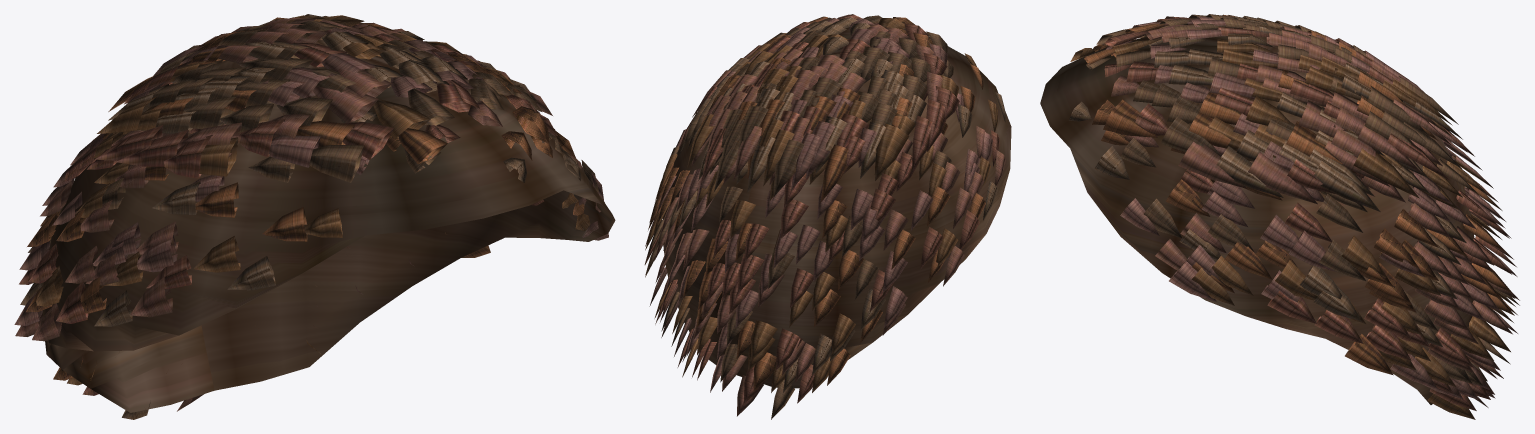
The model's file is militar.glb.
3 renders of one model, left to right at view 1: azimuth 30°, elevation 25°; view 2: azimuth 150°, elevation 25°; view 3: azimuth 270°, elevation 25°, orthographic. The views are drawn at different scales.
Parts seen in each view (by area): view 1: cabelo_militar; view 2: cabelo_militar; view 3: cabelo_militar.
Part boxes in pixels (bbox=[...]): cabelo_militar: bbox=[14, 14, 615, 419]; cabelo_militar: bbox=[644, 14, 1011, 419]; cabelo_militar: bbox=[1040, 14, 1519, 419].
Bounding box in the file's own units: 0.1624 × 0.1604 × 0.1867.
Materials: 1 (1 with a texture image).
